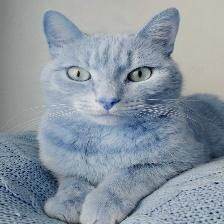kedo: (40, 6, 224, 224)
